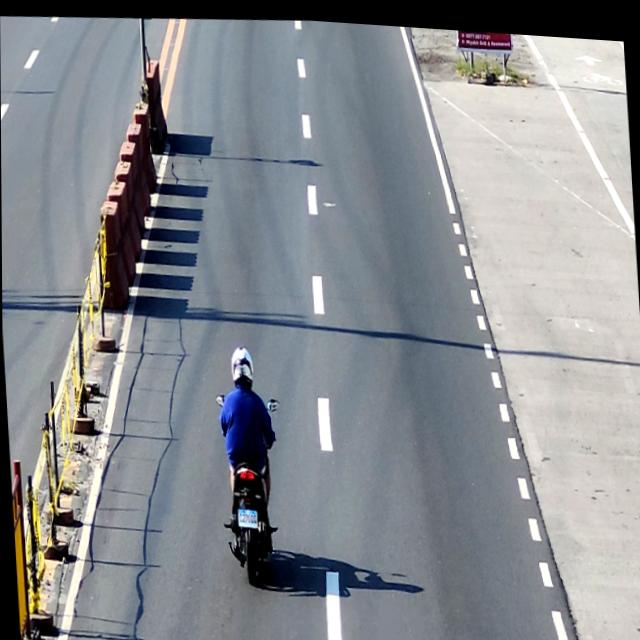License-Plate: (236, 506, 258, 527)
Motorcycle: (216, 386, 292, 587)
